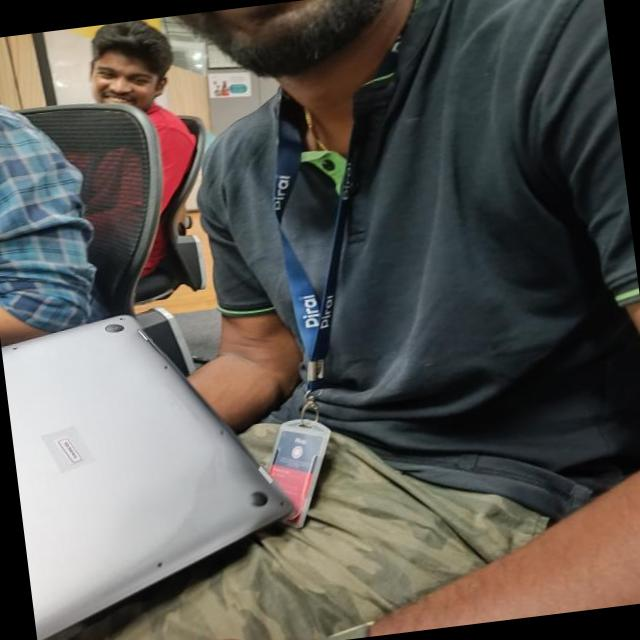id_card: (192, 37, 447, 532)
